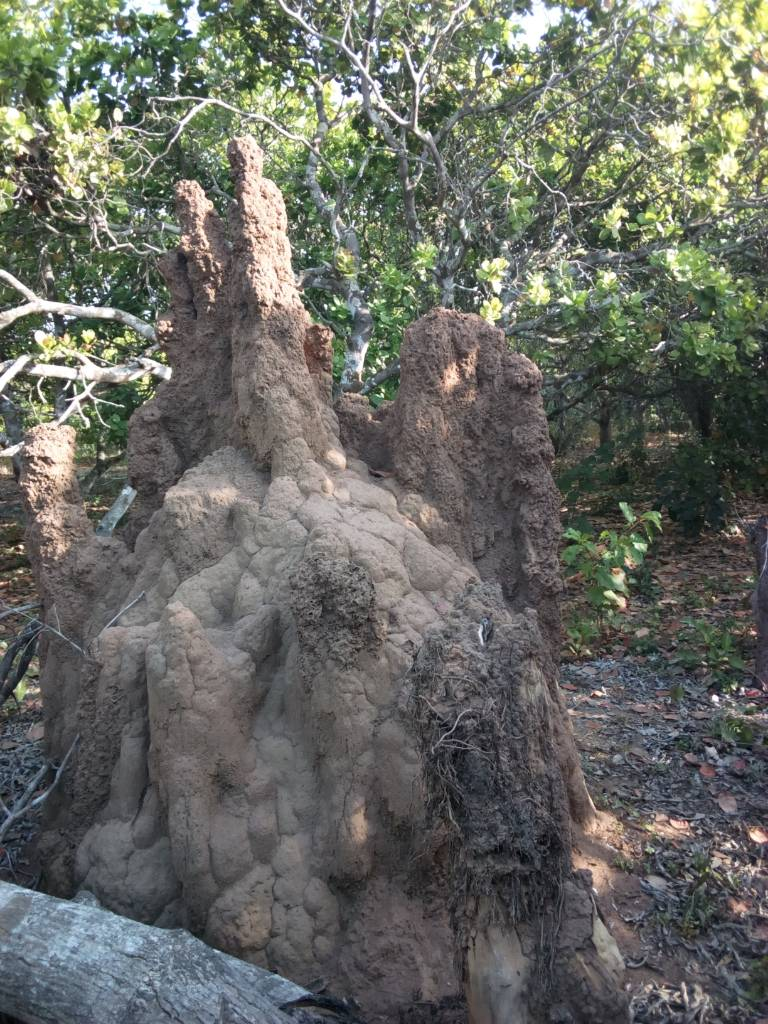Termites: (174, 446, 571, 979), (24, 412, 171, 874), (171, 149, 324, 444), (399, 310, 557, 460)
